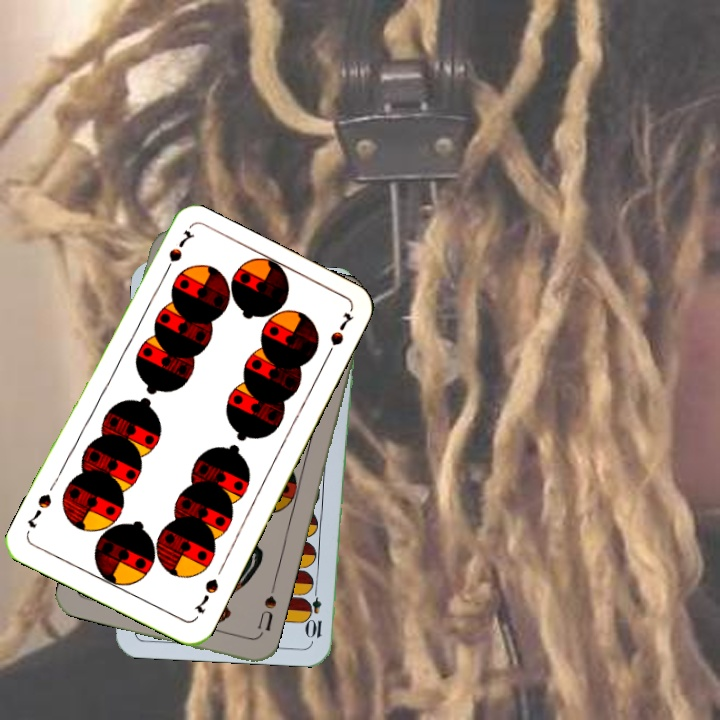E10: (306, 582, 324, 641)
S7: (158, 226, 194, 281), (190, 574, 221, 616)
SU: (253, 591, 279, 640)
